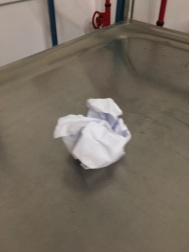paper_white: (46, 86, 137, 186)
